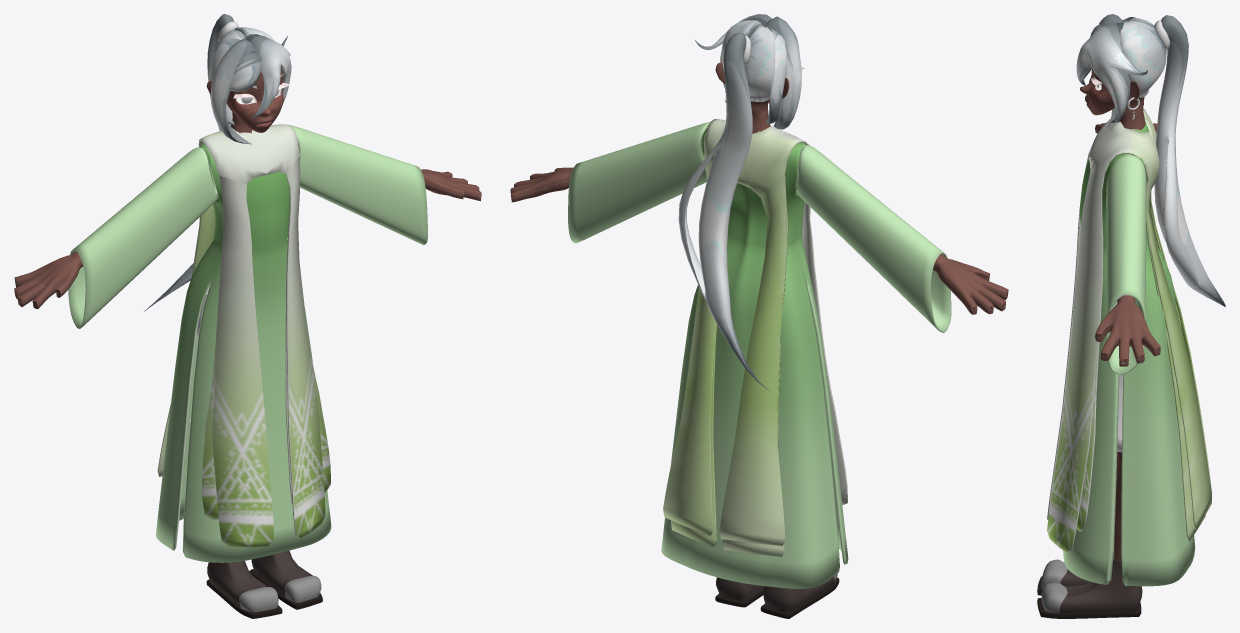
Rendered from PriestTpose.fbx.
3 views of the same model, side by side, from view 1: azimuth 30°, elevation 25°; view 2: azimuth 150°, elevation 25°; view 3: azimuth 270°, elevation 25° (orthographic). The views are drawn at different scales.
Visible parts, largest first — view 1: Dress, Claok 2, Hair, Body, Shoes; view 2: Dress, Claok 2, Hair, Body, Shoes; view 3: Dress, Claok 2, Hair, Body, Shoes, Dress.001.
Part boxes in pixels (box(x1,y1,x2,y2)): Dress: box(68, 125, 427, 562); Claok 2: box(157, 124, 330, 547); Hair: box(144, 14, 291, 311); Body: box(14, 69, 481, 309); Shoes: box(206, 550, 322, 618); Dress: box(568, 122, 951, 588); Claok 2: box(663, 119, 847, 556); Hair: box(678, 14, 801, 390); Body: box(510, 62, 1008, 314); Shoes: box(715, 573, 839, 618); Dress: box(1063, 124, 1195, 586); Claok 2: box(1047, 109, 1211, 552); Hair: box(1076, 14, 1225, 306); Body: box(1080, 68, 1160, 560); Shoes: box(1037, 545, 1142, 618); Dress.001: box(1117, 375, 1123, 452).
Size of the model in its own units: 131 by 151 by 44.11.
Materials: 6 (6 with a texture image).
